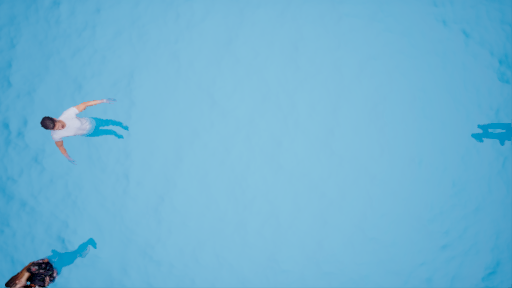person: (1, 232, 99, 288), (43, 95, 129, 156)
